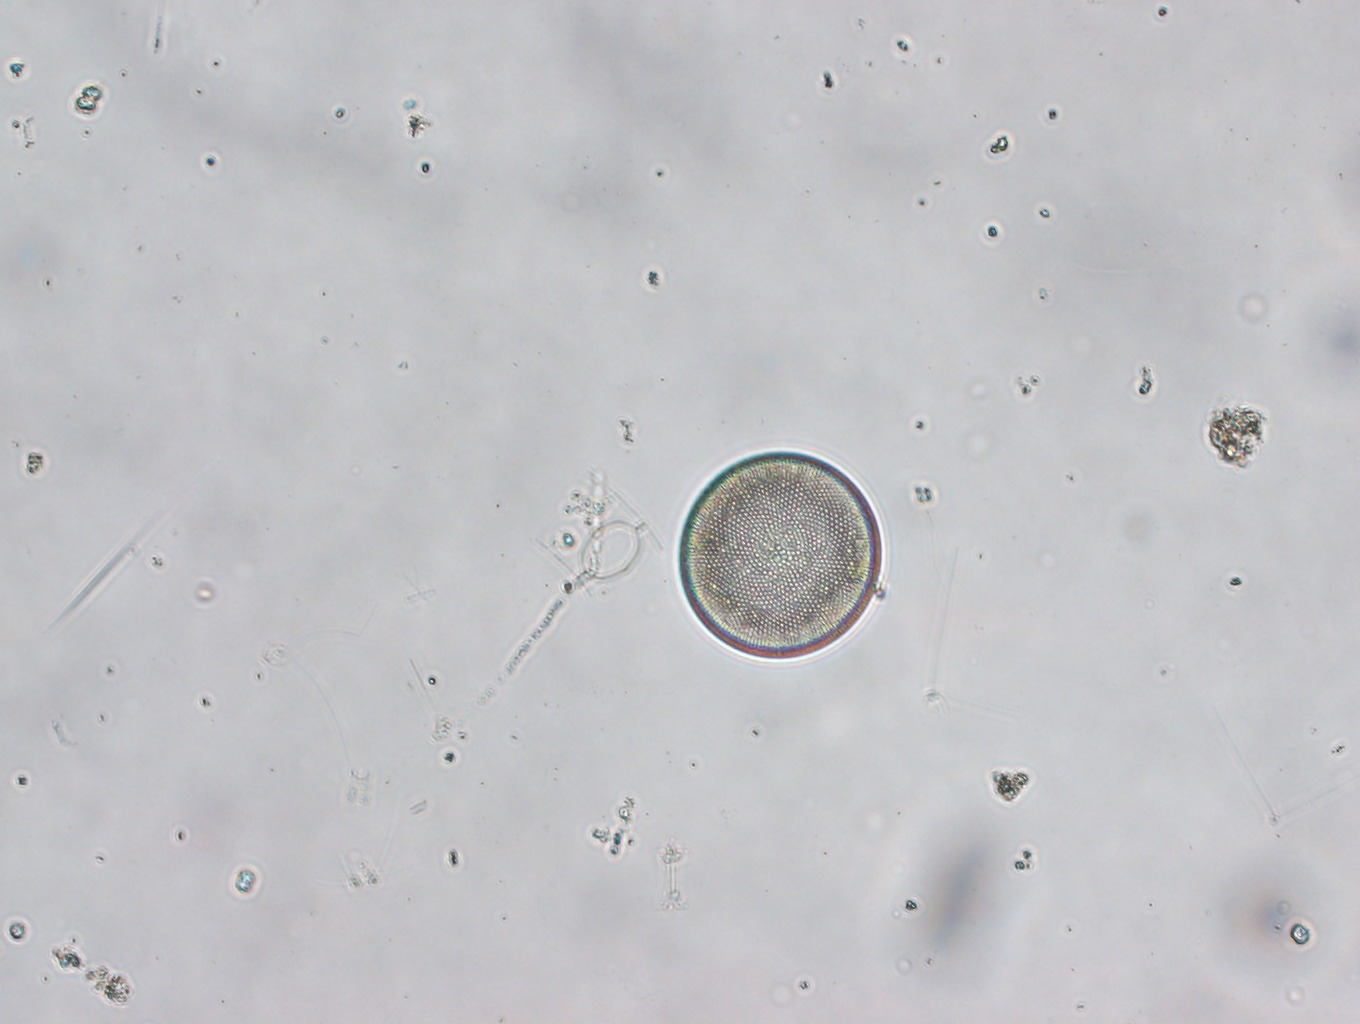coscinodiscus: (672, 445, 892, 668)
